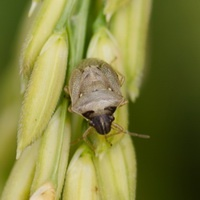insect: (68, 58, 126, 134)
